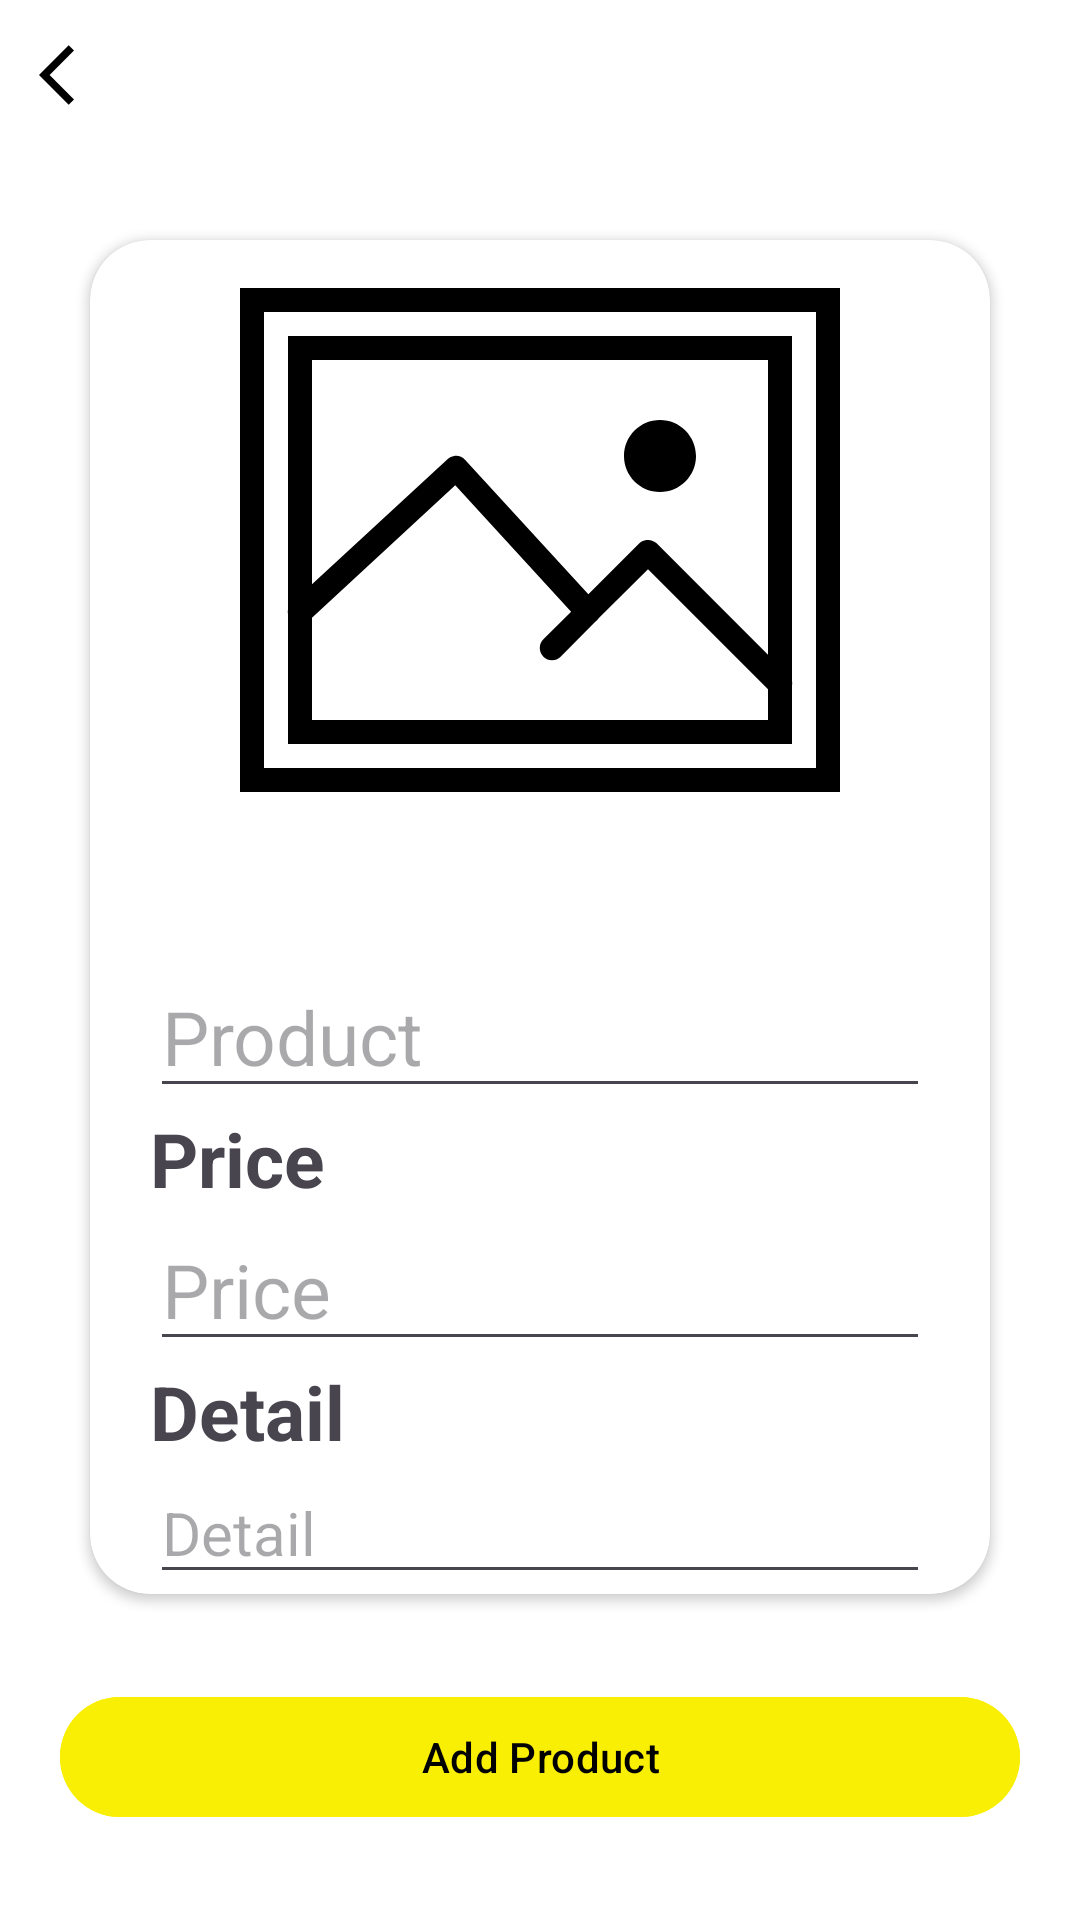

Icons on this 1080×1920 Android screen, each with the point to tap as [x,y]:
back: [56,75]
